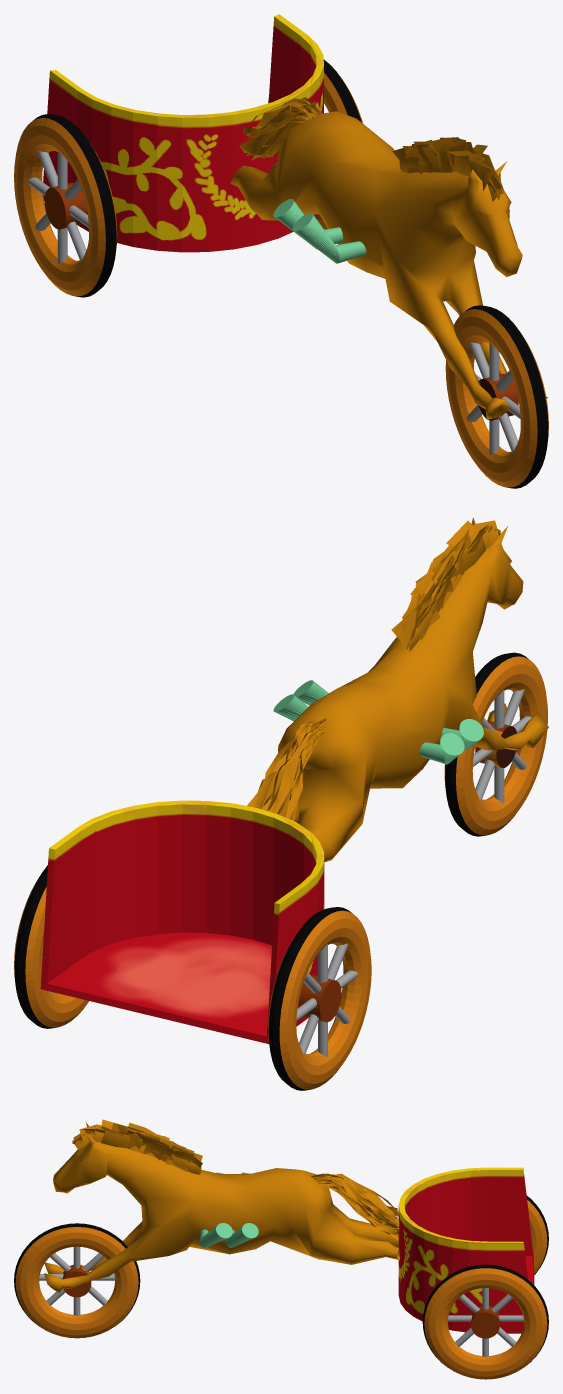
Rendered from beta_cart.obj.
3 views of the same model, one above another, from view 1: azimuth 30°, elevation 25°; view 2: azimuth 150°, elevation 25°; view 3: azimuth 270°, elevation 25° (orthographic). The views are drawn at different scales.
Visible parts, largest first — view 1: Horse, Chassis, rightWheel, frontWheel, flamePipeRF, leftWheel, flamePipeRB; view 2: Chassis, Horse, rightWheel, frontWheel, leftWheel, flamePipeRB; view 3: Horse, Chassis, leftWheel, frontWheel, rightWheel, flamePipeLF, flamePipeLB.
Boxes of the visible parts, <box> form: Horse: <box>230,97,547,419</box>; Chassis: <box>43,14,323,252</box>; rightWheel: <box>14,114,117,297</box>; frontWheel: <box>445,305,548,488</box>; flamePipeRF: <box>292,213,366,263</box>; leftWheel: <box>268,59,362,229</box>; flamePipeRB: <box>273,199,343,249</box>; Chassis: <box>40,800,324,1043</box>; Horse: <box>247,517,548,862</box>; rightWheel: <box>268,907,371,1090</box>; frontWheel: <box>444,652,547,836</box>; leftWheel: <box>14,865,88,1028</box>; flamePipeRB: <box>420,733,464,764</box>; Horse: <box>44,1119,399,1292</box>; Chassis: <box>398,1167,534,1333</box>; leftWheel: <box>422,1264,548,1379</box>; frontWheel: <box>14,1223,140,1338</box>; rightWheel: <box>526,1195,548,1274</box>; flamePipeLF: <box>199,1223,232,1247</box>; flamePipeLB: <box>225,1223,258,1247</box>.
Size of the model in its own units: 0.6345 by 0.7055 by 1.59.
